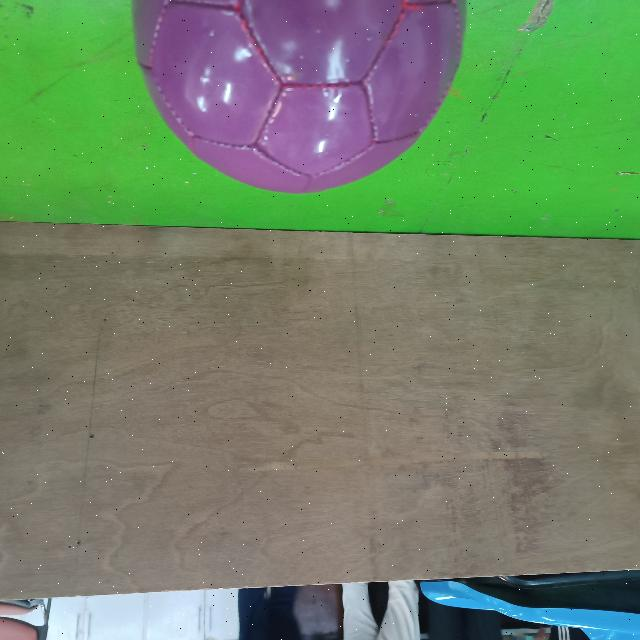P: (126, 0, 470, 200)
